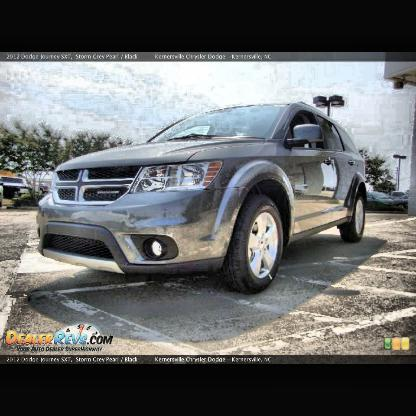Dodge Journey SUV 2012: (39, 104, 370, 299)
